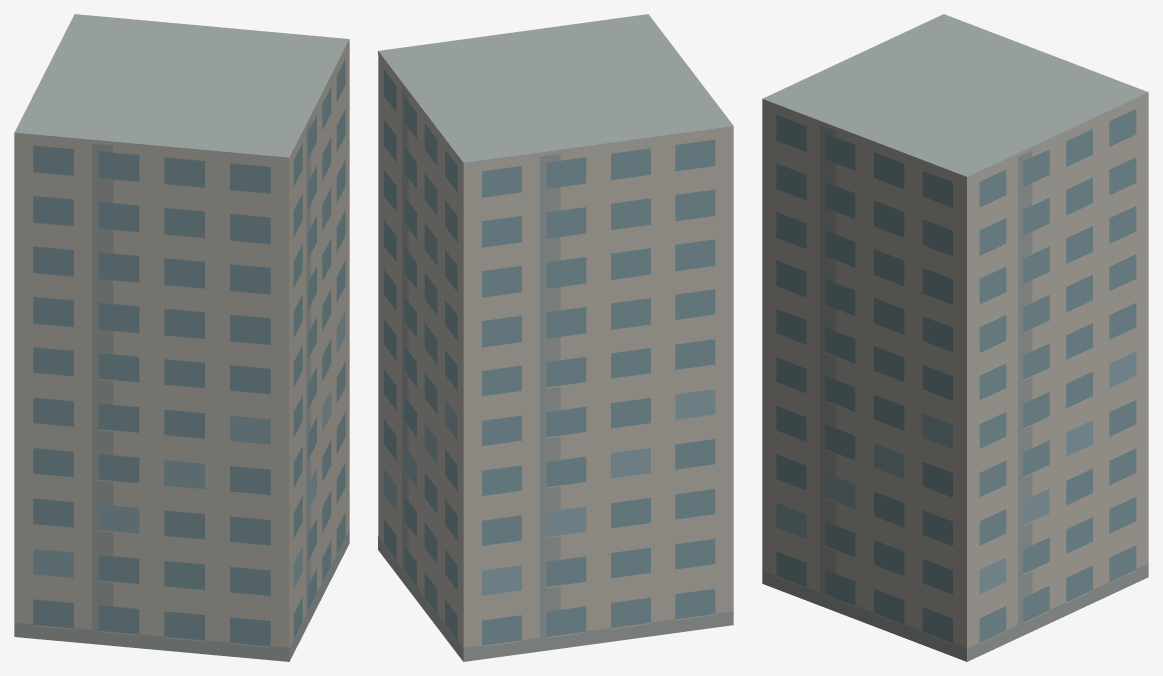
The model's file is residential-4c87f65e-2df9-44b0-bdcd-629bb4bee9ca.glb.
3 views of the same model, side by side, from view 1: azimuth 30°, elevation 25°; view 2: azimuth 150°, elevation 25°; view 3: azimuth 270°, elevation 25° (orthographic). The views are drawn at different scales.
Parts seen in each view (by area): view 1: residential-4c87f65e-2df9-44b0-bdcd-629bb4bee9ca.tmp; view 2: residential-4c87f65e-2df9-44b0-bdcd-629bb4bee9ca.tmp; view 3: residential-4c87f65e-2df9-44b0-bdcd-629bb4bee9ca.tmp.
Part boxes in pixels (x1,y1,x2,y2): residential-4c87f65e-2df9-44b0-bdcd-629bb4bee9ca.tmp: [14, 14, 349, 661]; residential-4c87f65e-2df9-44b0-bdcd-629bb4bee9ca.tmp: [378, 14, 733, 661]; residential-4c87f65e-2df9-44b0-bdcd-629bb4bee9ca.tmp: [762, 14, 1148, 661].
Size of the model in its own units: 21.62 by 30 by 21.66.
